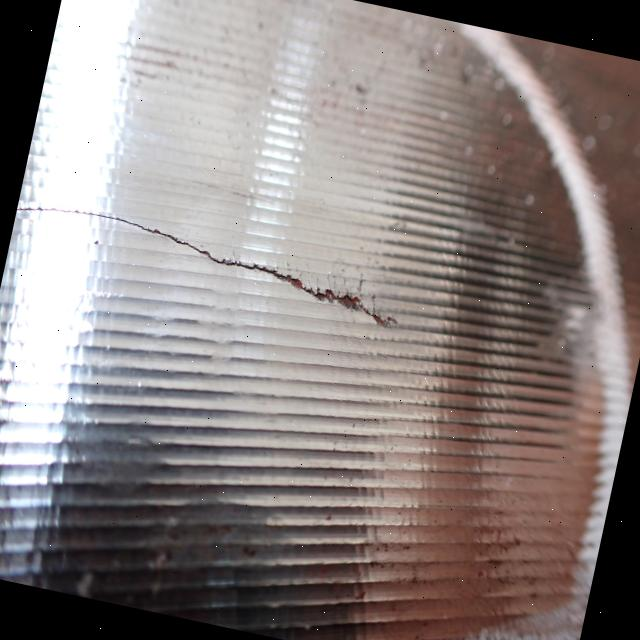Contact_Fatigue_Cracks: (8, 199, 403, 337)
